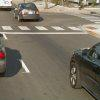Crosswalk: (1, 20, 96, 42)
